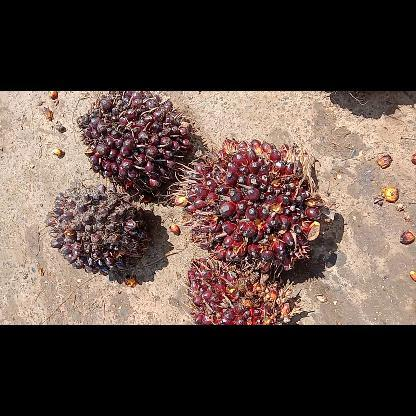Kurang masak: (167, 138, 334, 276), (76, 91, 192, 201), (45, 184, 151, 274), (183, 258, 300, 324)
